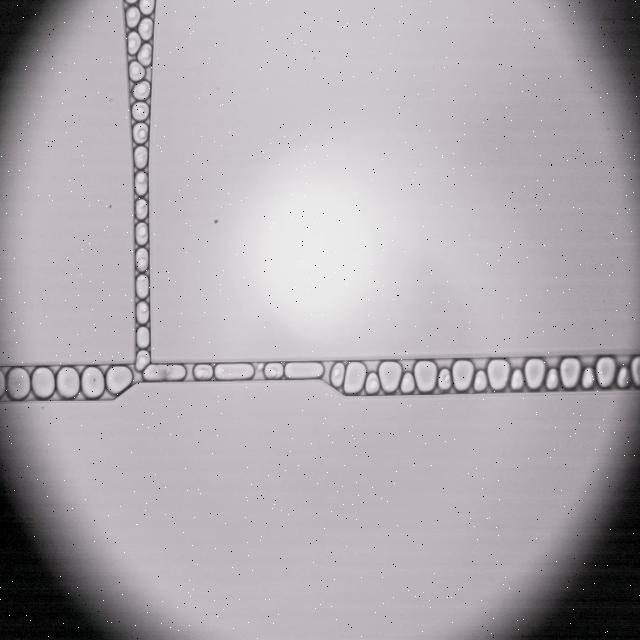L: (330, 363, 344, 388), (135, 275, 149, 298), (129, 61, 145, 81), (133, 123, 148, 144), (135, 171, 148, 195), (126, 6, 140, 28), (139, 18, 153, 40), (138, 44, 152, 66), (134, 146, 148, 168), (365, 372, 379, 394), (133, 81, 150, 99), (136, 301, 149, 324), (136, 327, 150, 348), (132, 103, 149, 120), (194, 364, 212, 380), (135, 351, 150, 370), (264, 363, 283, 378), (473, 370, 487, 390), (136, 248, 148, 271), (128, 32, 141, 53), (438, 369, 451, 390), (616, 367, 629, 388), (401, 373, 414, 393), (581, 368, 594, 388), (136, 222, 147, 245), (511, 369, 523, 390), (546, 369, 558, 390), (136, 199, 148, 219), (140, 0, 154, 14)
S: (106, 366, 133, 394), (7, 367, 30, 399), (414, 360, 437, 392), (379, 361, 401, 393), (82, 367, 104, 398), (144, 364, 186, 380), (32, 368, 54, 398), (488, 360, 510, 390), (453, 360, 474, 391), (57, 368, 79, 397), (345, 363, 366, 393), (524, 359, 545, 389), (215, 364, 254, 380), (285, 363, 324, 379), (560, 358, 580, 388), (596, 357, 615, 388), (631, 356, 640, 386)
